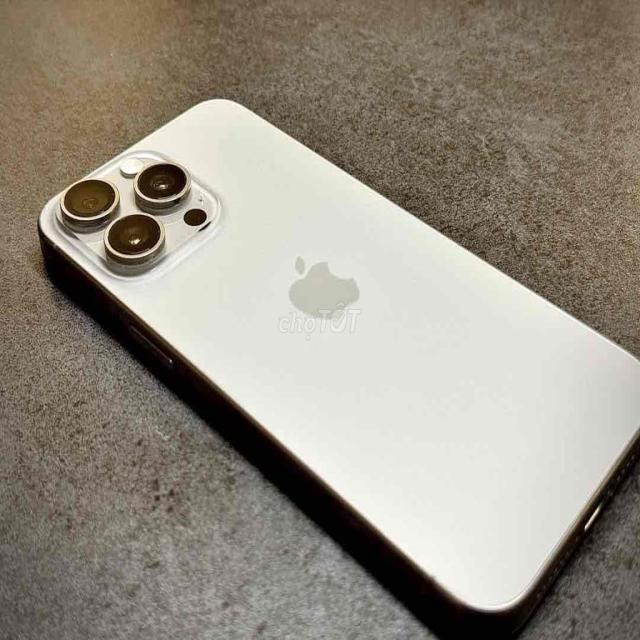gen_16: (27, 89, 639, 620)
